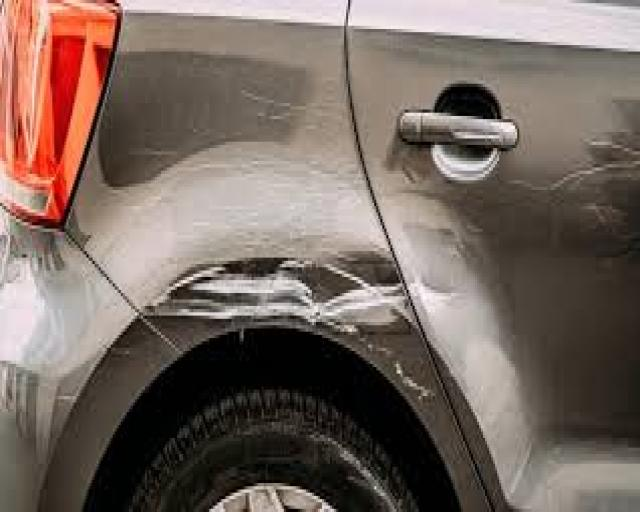scratch: (78, 82, 448, 416), (497, 114, 638, 261)
